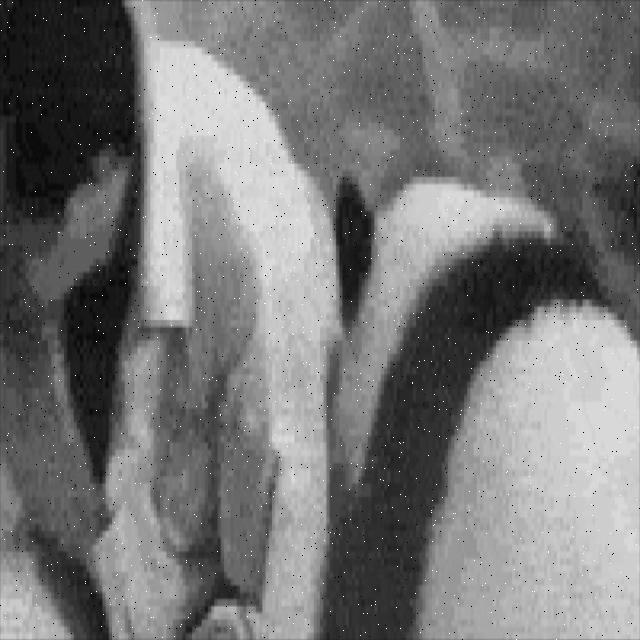panda: (320, 170, 639, 638)
